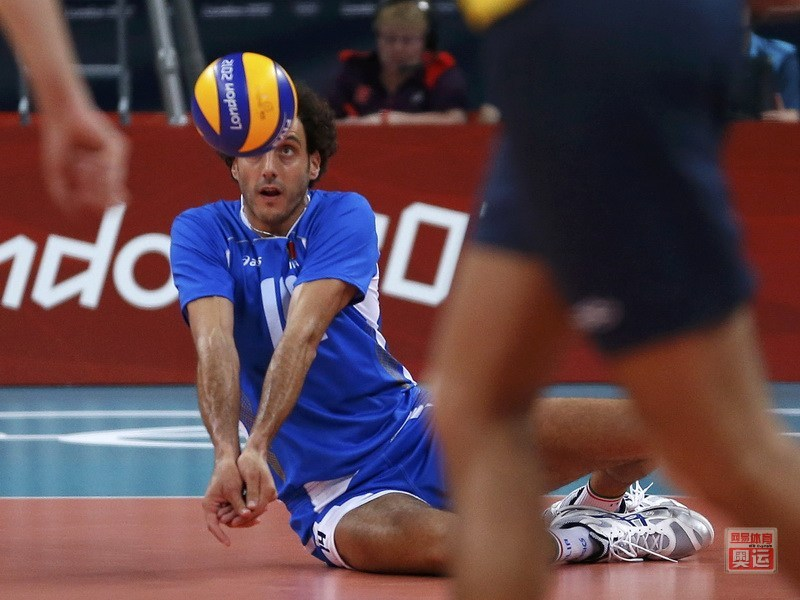fall: (161, 69, 721, 581)
